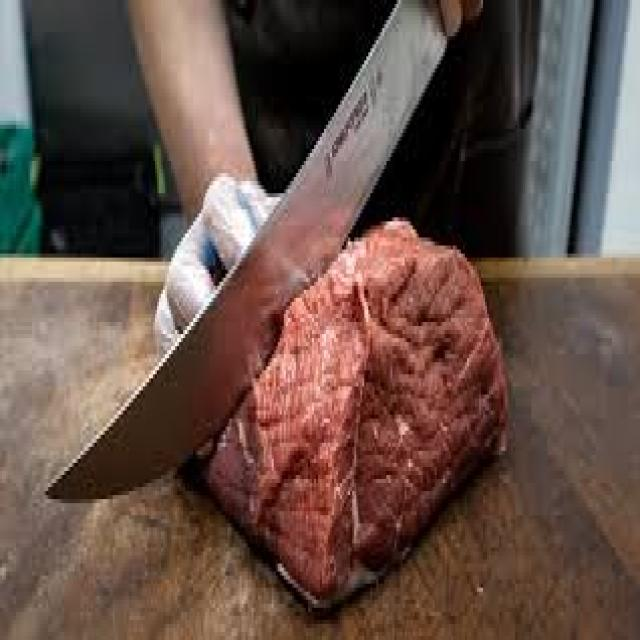Knife: (46, 0, 445, 499)
